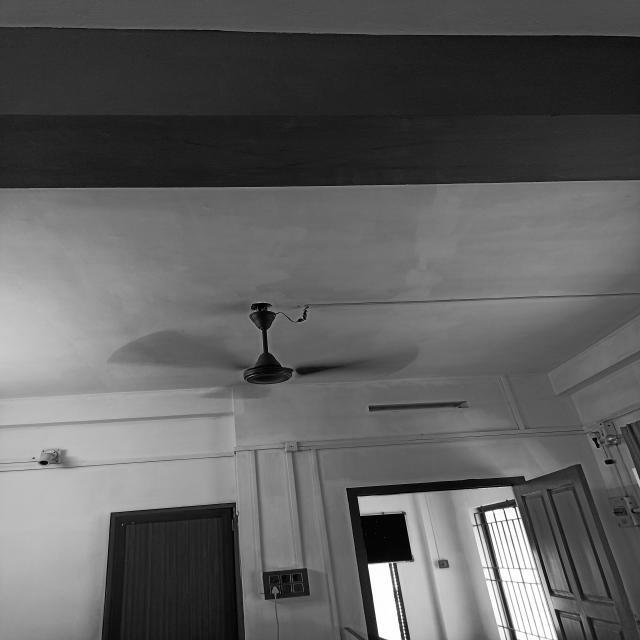fan: (106, 302, 419, 389)
light: (242, 302, 293, 384)
